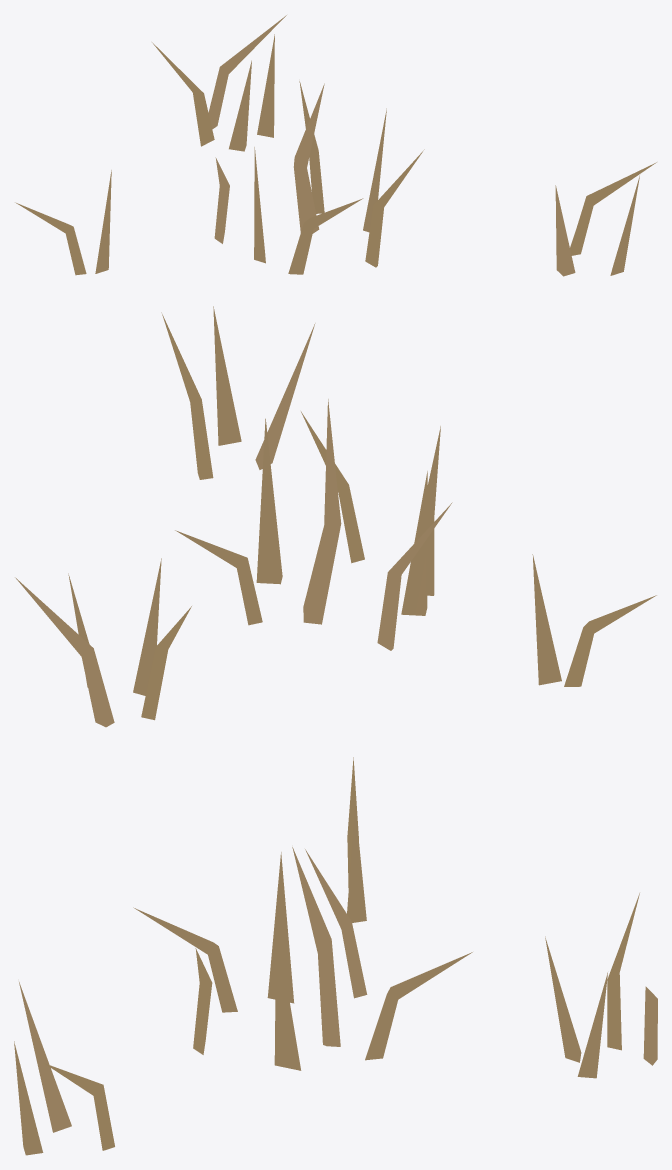
Rendered from Grass3D_b_08.fbx.
3 renders of one model, top to bottom at view 1: azimuth 30°, elevation 25°; view 2: azimuth 150°, elevation 25°; view 3: azimuth 270°, elevation 25°, orthographic. The views are drawn at different scales.
Parts seen in each view (by area): view 1: Grass3D_b_08; view 2: Grass3D_b_08; view 3: Grass3D_b_08.
Part boxes in pixels (left/top/right/bottom): Grass3D_b_08: left=15, top=15, right=656, bottom=276; Grass3D_b_08: left=15, top=306, right=656, bottom=727; Grass3D_b_08: left=14, top=757, right=657, bottom=1155.
Size of the model in its own units: 2.27 by 0.6976 by 1.97.
